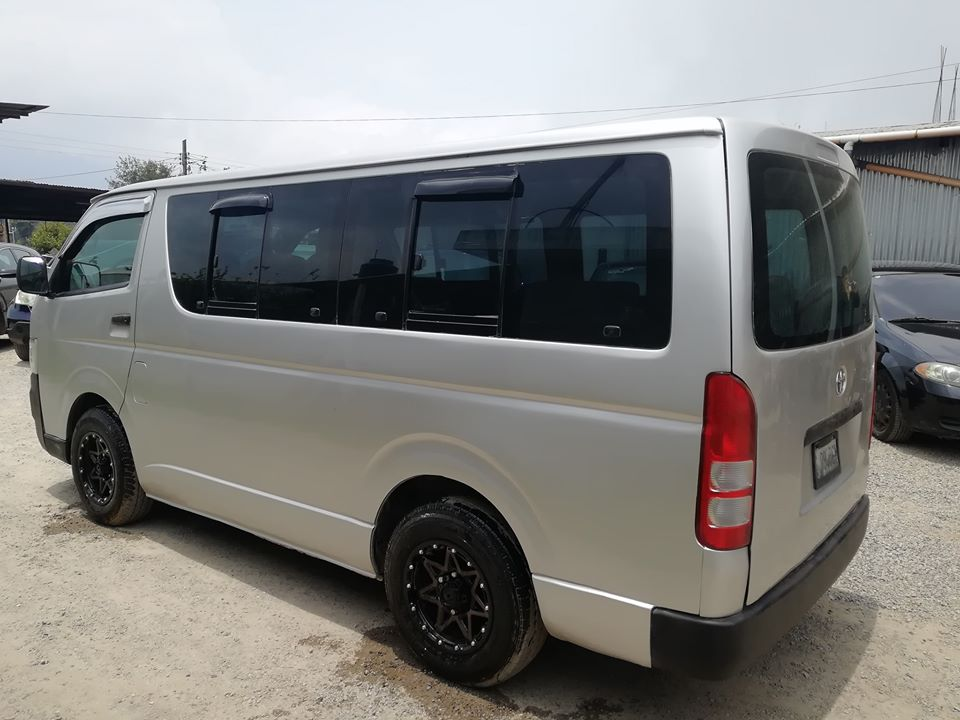bus: (23, 111, 882, 691)
